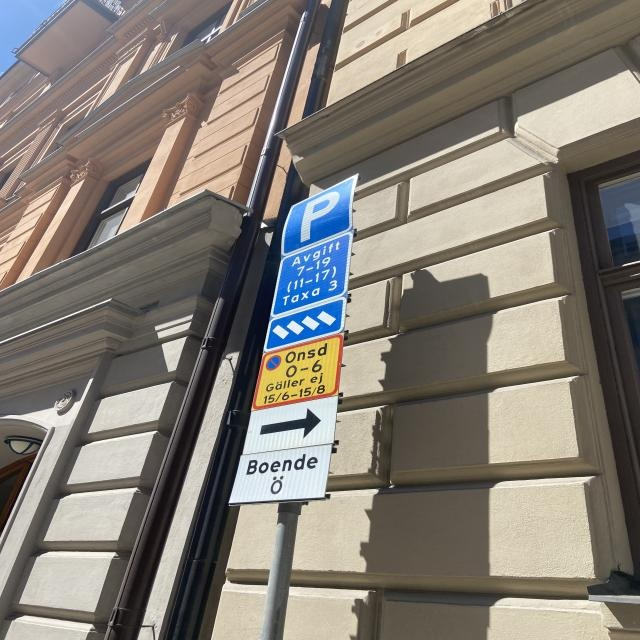P-skylt: (278, 173, 360, 257)
